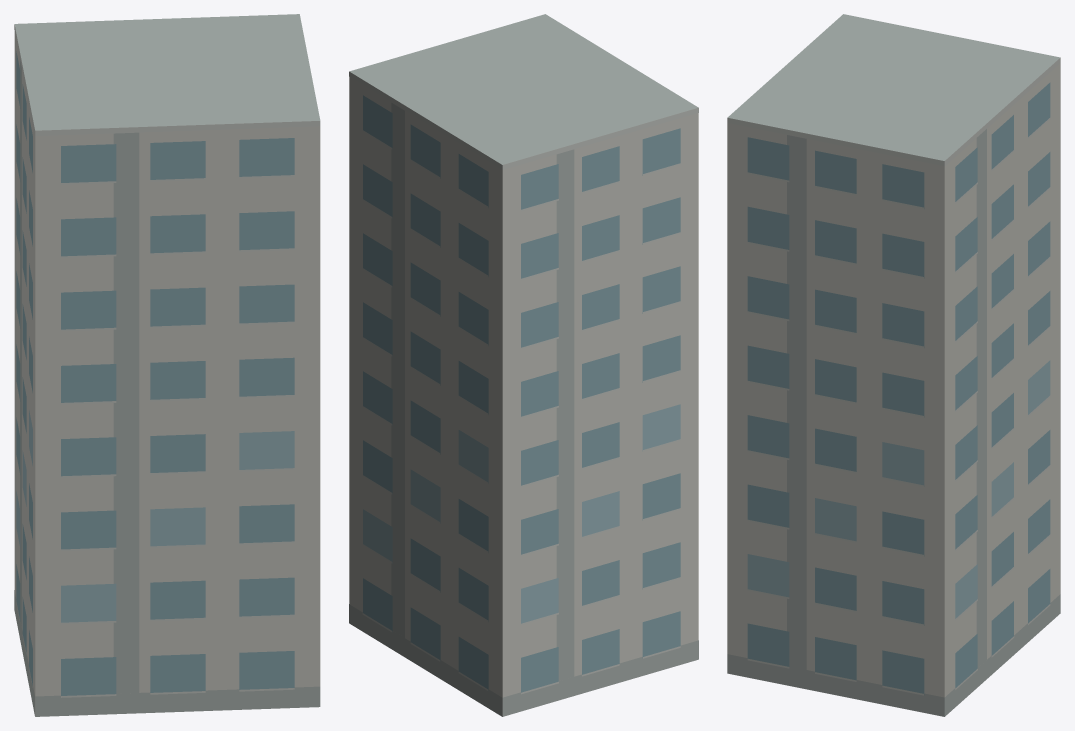
The model's file is survey-upis-32633328.glb.
The picture shows the model from 3 angles, left to right: view 1: azimuth 30°, elevation 25°; view 2: azimuth 150°, elevation 25°; view 3: azimuth 270°, elevation 25°; orthographic projection. The views are drawn at different scales.
Visible parts, largest first — view 1: survey-upis-32633328.tmp; view 2: survey-upis-32633328.tmp; view 3: survey-upis-32633328.tmp.
Part boxes in pixels (x1,y1,x2,y2): survey-upis-32633328.tmp: [14, 14, 320, 716]; survey-upis-32633328.tmp: [349, 14, 698, 716]; survey-upis-32633328.tmp: [727, 14, 1060, 716].
Size of the model in its own units: 14.6 by 25.7 by 13.98.
